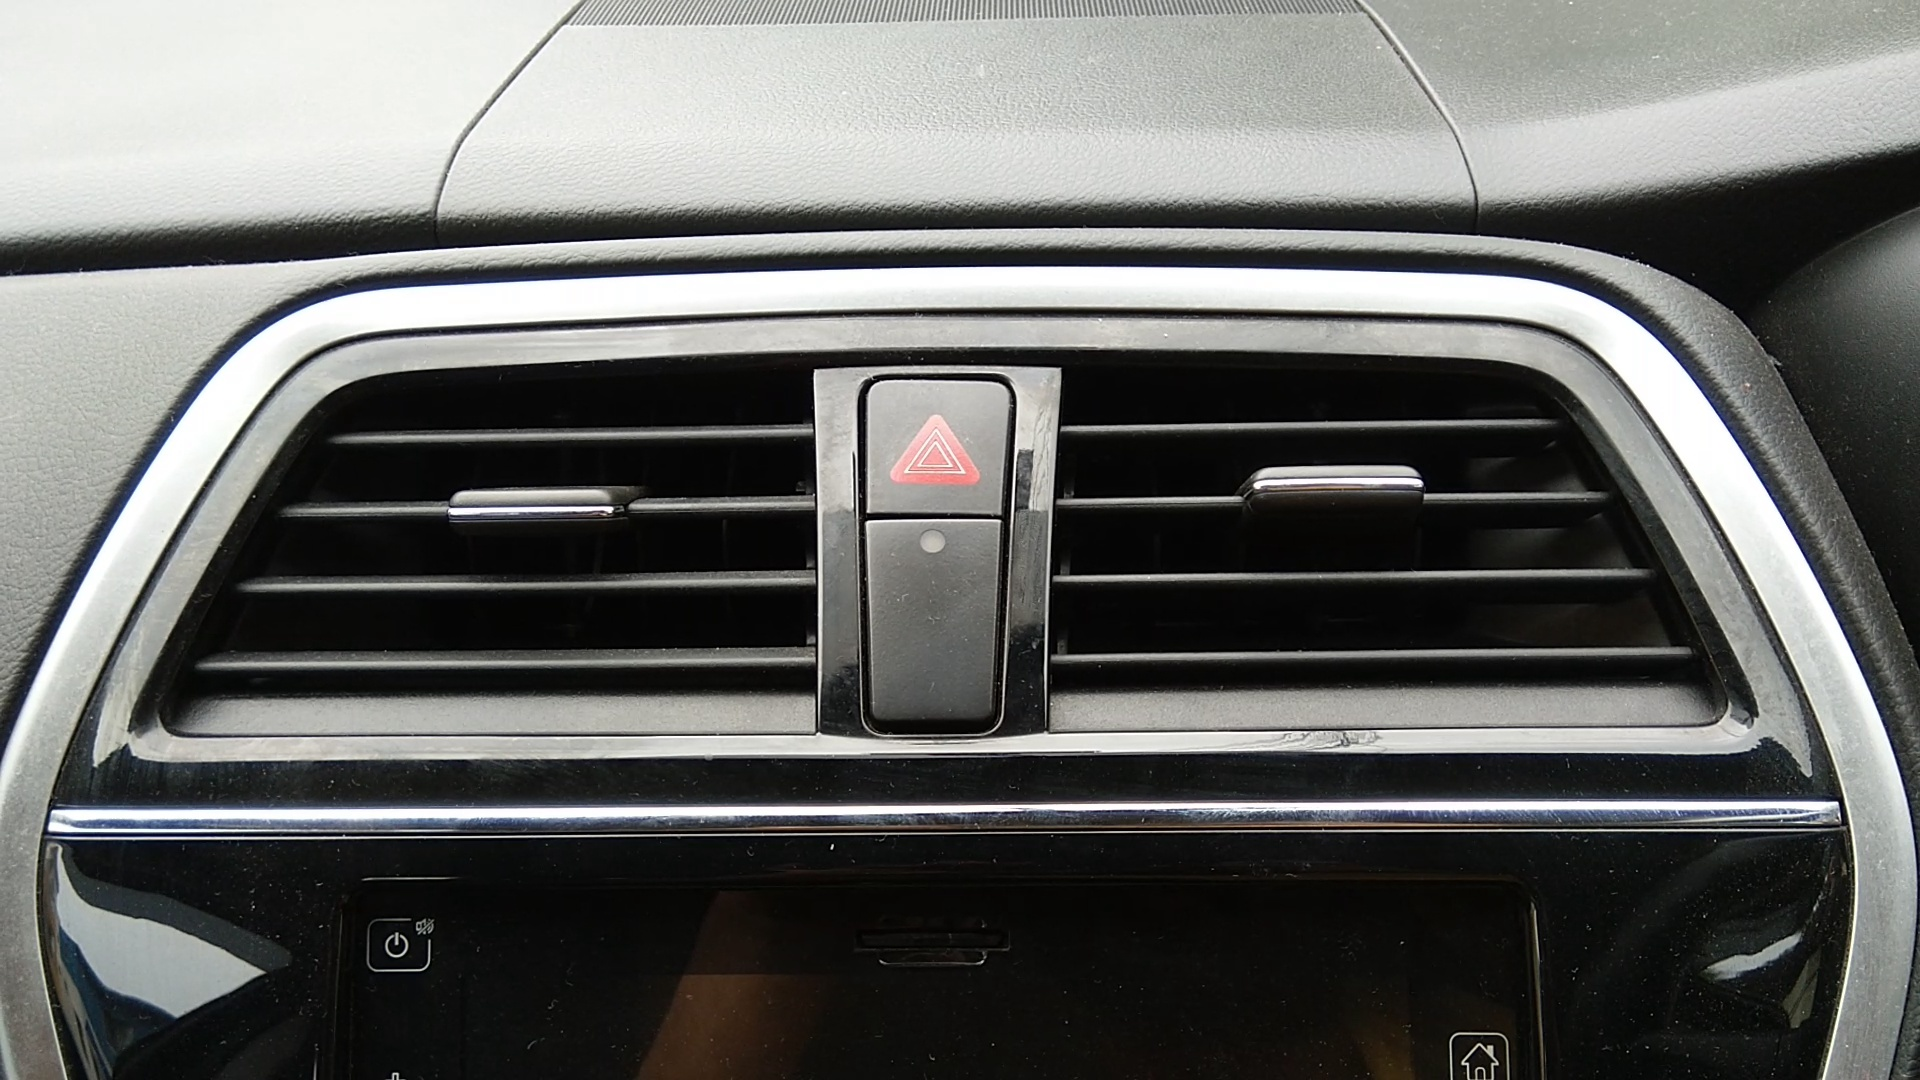parking_button: (886, 390, 996, 495)
